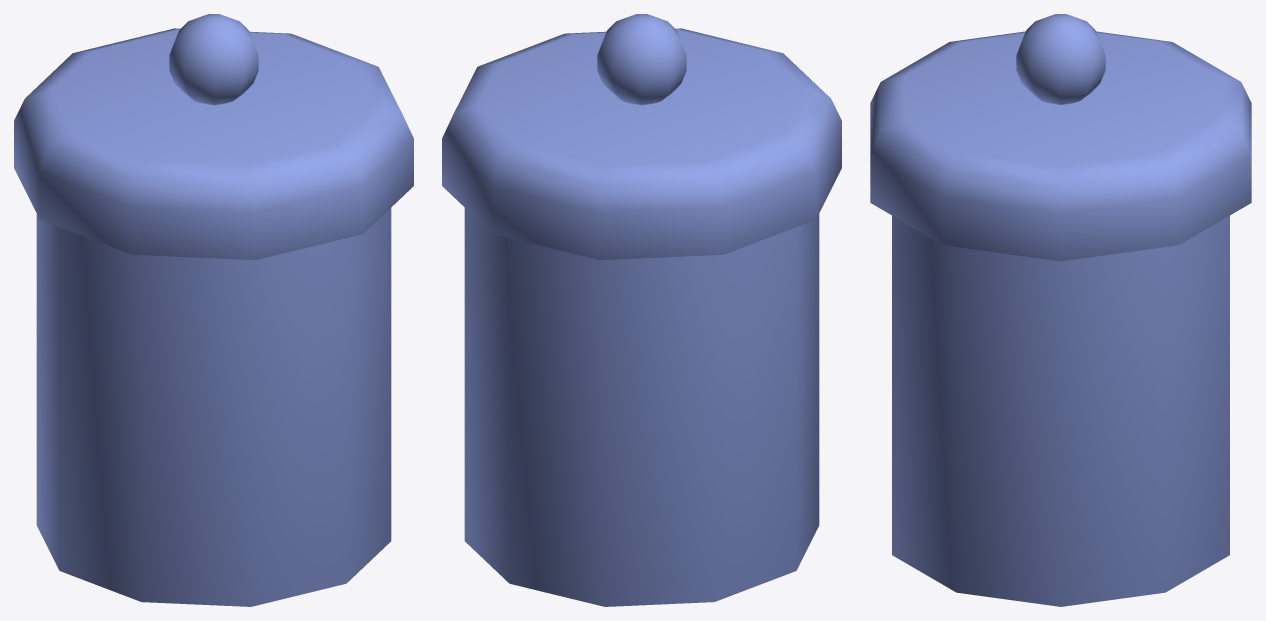
Rendered from pot.fbx.
The picture shows the model from 3 angles, left to right: view 1: azimuth 30°, elevation 25°; view 2: azimuth 150°, elevation 25°; view 3: azimuth 270°, elevation 25°; orthographic projection.
Visible parts, largest first — view 1: POT; view 2: POT; view 3: POT.
Part boxes in pixels (box(x1,y1,x2,y2)): POT: box(14, 14, 413, 606); POT: box(442, 14, 841, 606); POT: box(870, 14, 1251, 606).
Bounding box in the file's own units: 0.8675 × 1.23 × 0.8251.
